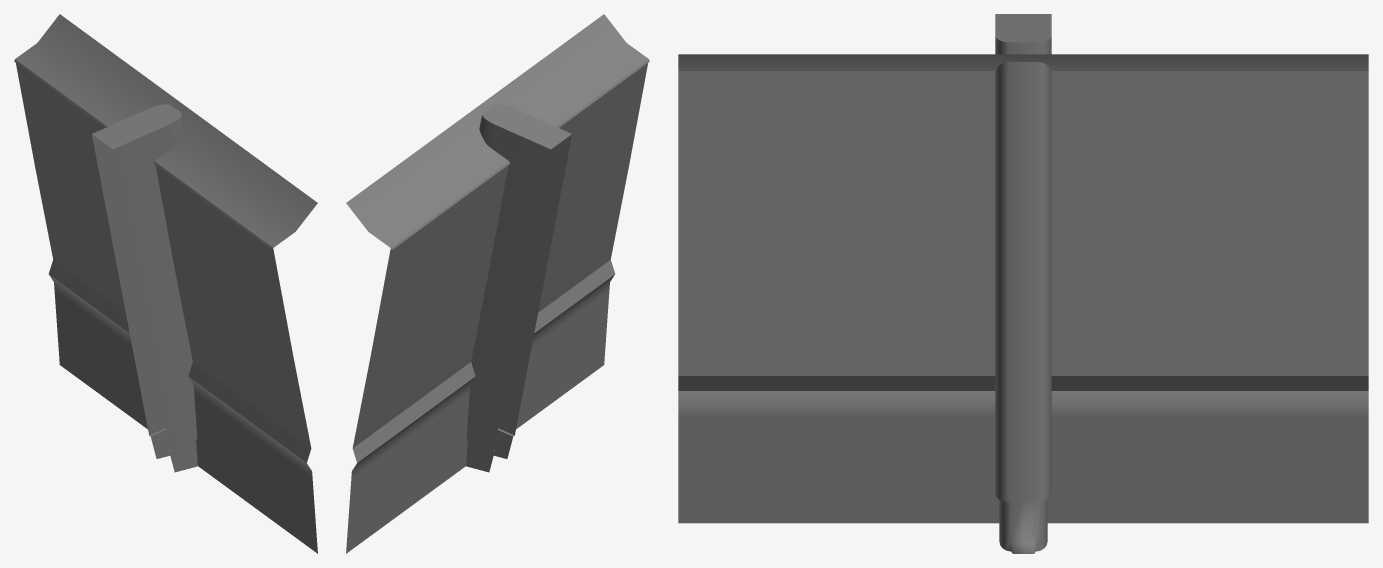
The model's file is q-scifi-mod-wallastra-straight-divided.glb.
3 views of the same model, side by side, from view 1: azimuth 30°, elevation 25°; view 2: azimuth 150°, elevation 25°; view 3: azimuth 270°, elevation 25° (orthographic). The views are drawn at different scales.
Visible parts, largest first — view 1: WallAstra_Straight_Divided; view 2: WallAstra_Straight_Divided; view 3: WallAstra_Straight_Divided.
Part boxes in pixels (x1=…): WallAstra_Straight_Divided: x1=14, y1=14, x2=317, y2=553; WallAstra_Straight_Divided: x1=346, y1=14, x2=649, y2=553; WallAstra_Straight_Divided: x1=678, y1=14, x2=1368, y2=553.
Size of the model in its own units: 1.21 by 3.03 by 4.
Materials: 5 (5 with a texture image).
